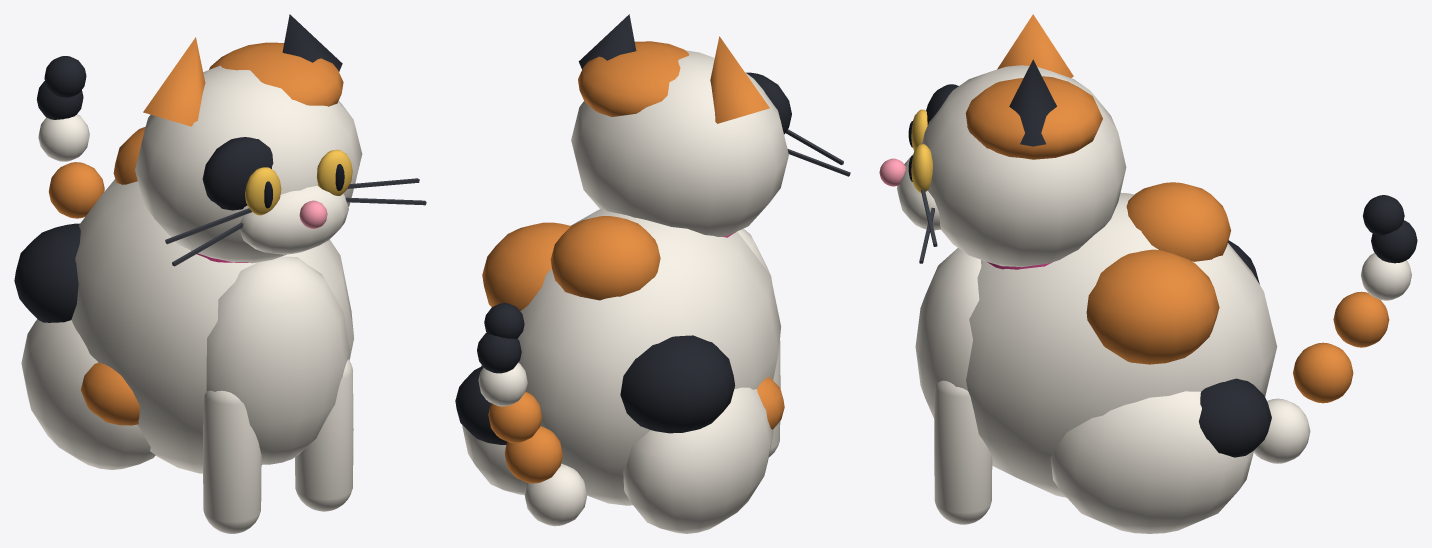
The model's file is calico.glb.
3 views of the same model, side by side, from view 1: azimuth 30°, elevation 25°; view 2: azimuth 150°, elevation 25°; view 3: azimuth 270°, elevation 25° (orthographic). The views are drawn at different scales.
Parts seen in each view (by area): view 1: body, chest, skull, crown, paw_R_leg, tail, paw_L_leg, patch_1, ear_1, muzzle, patch_0, eye_-1 (+2 smaller); view 2: body, skull, patch_0, tail, patch_1, crown, ear_1, whisker_-1_-1; view 3: body, skull, patch_0, tail, crown, chest, paw_L_leg, patch_1, ear_1, eye_-1, muzzle.
Part boxes in pixels (x1=…): body: x1=21, y1=179, x2=354, y2=473; chest: x1=206, y1=256, x2=349, y2=464; skull: x1=135, y1=65, x2=362, y2=263; crown: x1=143, y1=37, x2=343, y2=126; paw_R_leg: x1=203, y1=390, x2=261, y2=533; tail: x1=36, y1=56, x2=104, y2=218; paw_L_leg: x1=295, y1=359, x2=353, y2=511; patch_1: x1=14, y1=223, x2=80, y2=322; ear_1: x1=202, y1=14, x2=342, y2=210; muzzle: x1=239, y1=186, x2=348, y2=254; patch_0: x1=81, y1=126, x2=145, y2=425; eye_-1: x1=245, y1=149, x2=352, y2=215; body: x1=462, y1=208, x2=781, y2=533; skull: x1=571, y1=50, x2=788, y2=236; patch_0: x1=482, y1=216, x2=784, y2=429; tail: x1=477, y1=303, x2=586, y2=526; patch_1: x1=455, y1=335, x2=735, y2=444; crown: x1=578, y1=36, x2=769, y2=123; ear_1: x1=578, y1=14, x2=791, y2=134; whisker_-1_-1: x1=786, y1=129, x2=850, y2=176; body: x1=966, y1=192, x2=1277, y2=533; skull: x1=922, y1=65, x2=1126, y2=267; patch_0: x1=1086, y1=182, x2=1231, y2=364; tail: x1=1254, y1=195, x2=1417, y2=463; crown: x1=965, y1=14, x2=1102, y2=159; chest: x1=915, y1=248, x2=981, y2=418; paw_L_leg: x1=934, y1=380, x2=992, y2=524; patch_1: x1=1199, y1=240, x2=1271, y2=457; ear_1: x1=926, y1=59, x2=1056, y2=146; eye_-1: x1=911, y1=109, x2=932, y2=192; muzzle: x1=897, y1=155, x2=940, y2=230.
Bounding box in the file's own units: 0.28 × 0.4388 × 0.462.
